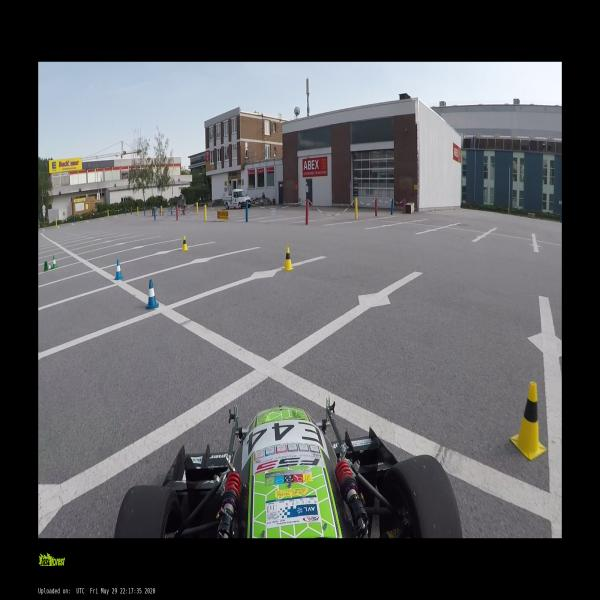blue_cone: (146, 280, 158, 309), (114, 259, 123, 280)
unknown_cone: (51, 255, 57, 268), (44, 261, 52, 270)
yellow_cone: (511, 381, 548, 459), (282, 247, 294, 270), (181, 236, 189, 251)
